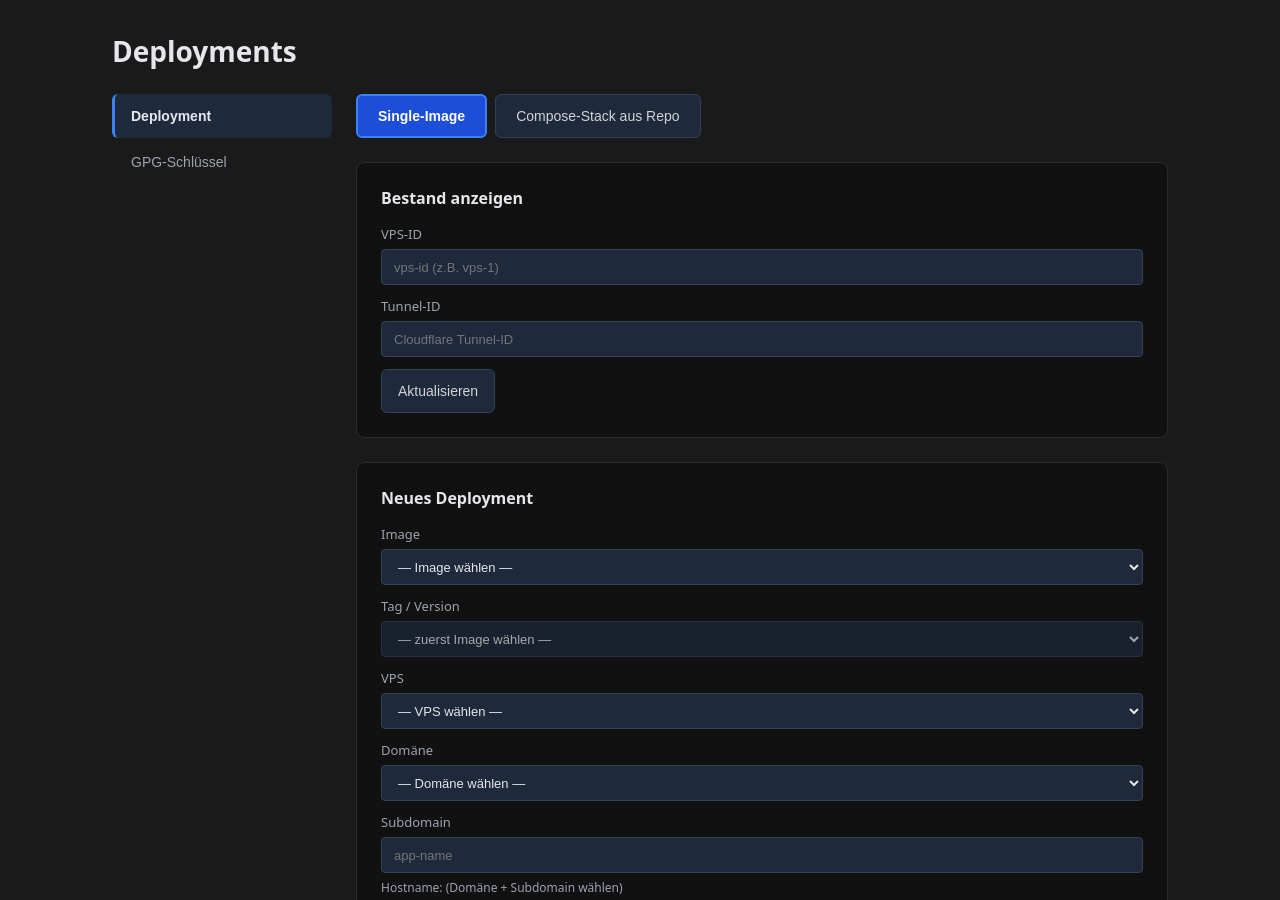
Test case: DeploymentsView — AC11: Subdomain pre-fill + assembled hostname › pre-fills subdomain from selected image name
Select "brew-assistent" in the dropdown with id "deploy-image-select": (762, 567) [381,549,1143,585]
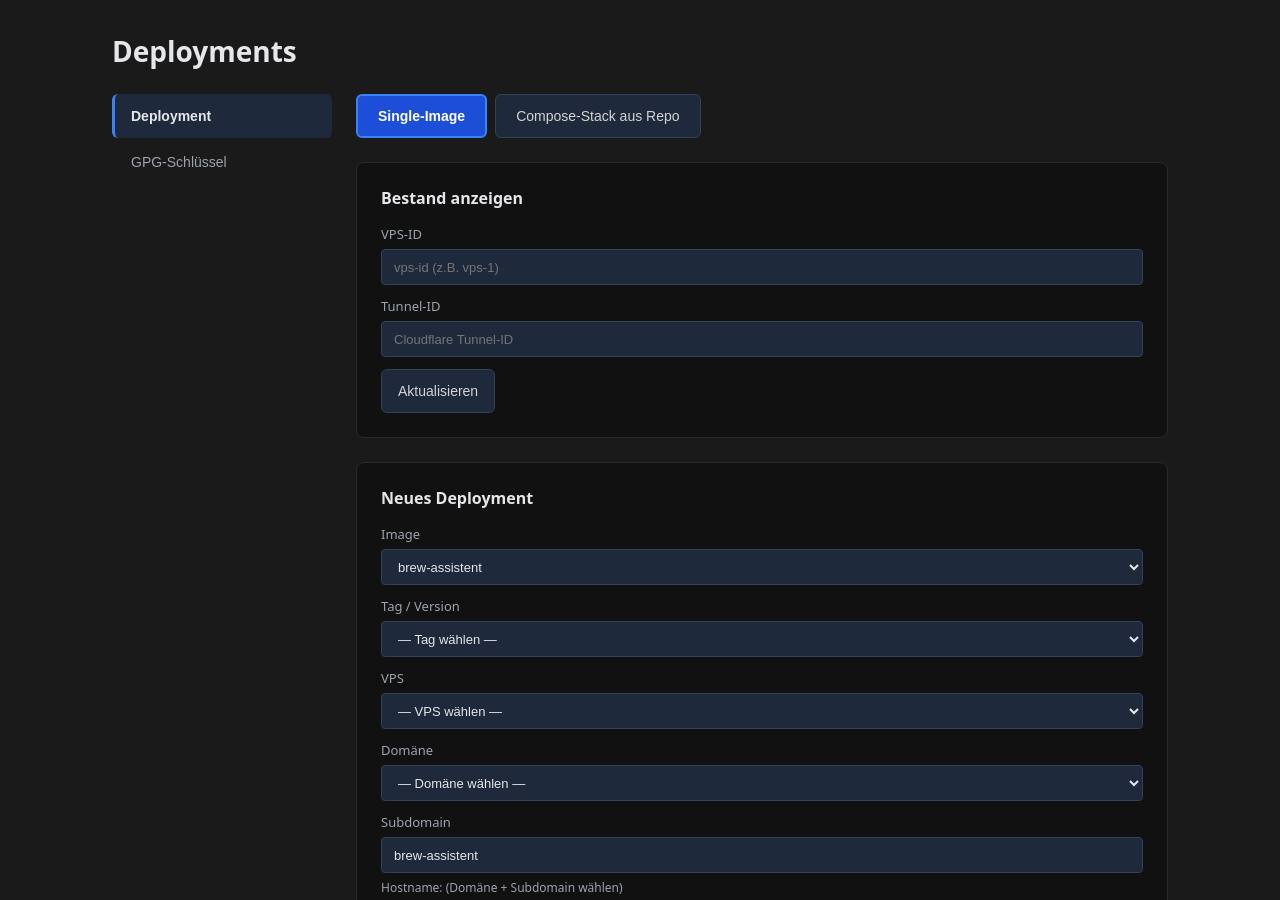
Now the field with id "deploy-subdomain" holds "brew-assistent", box [381,837,1143,873]
